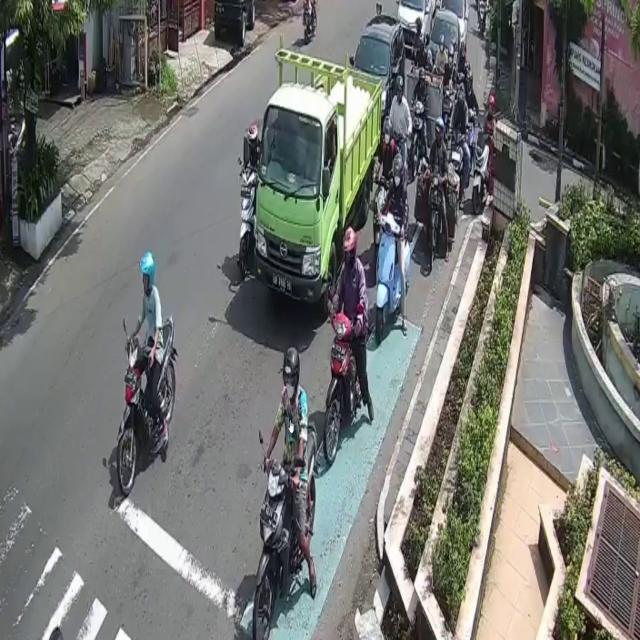bus: (253, 419, 320, 640), (117, 315, 177, 501), (323, 297, 369, 474), (372, 209, 413, 339), (422, 169, 450, 271), (239, 164, 259, 271), (410, 96, 430, 177), (474, 130, 492, 214), (451, 122, 468, 194), (301, 0, 318, 47)
motorcycle: (353, 16, 406, 124), (426, 11, 461, 98), (398, 0, 436, 55)
truck: (255, 36, 383, 318)
